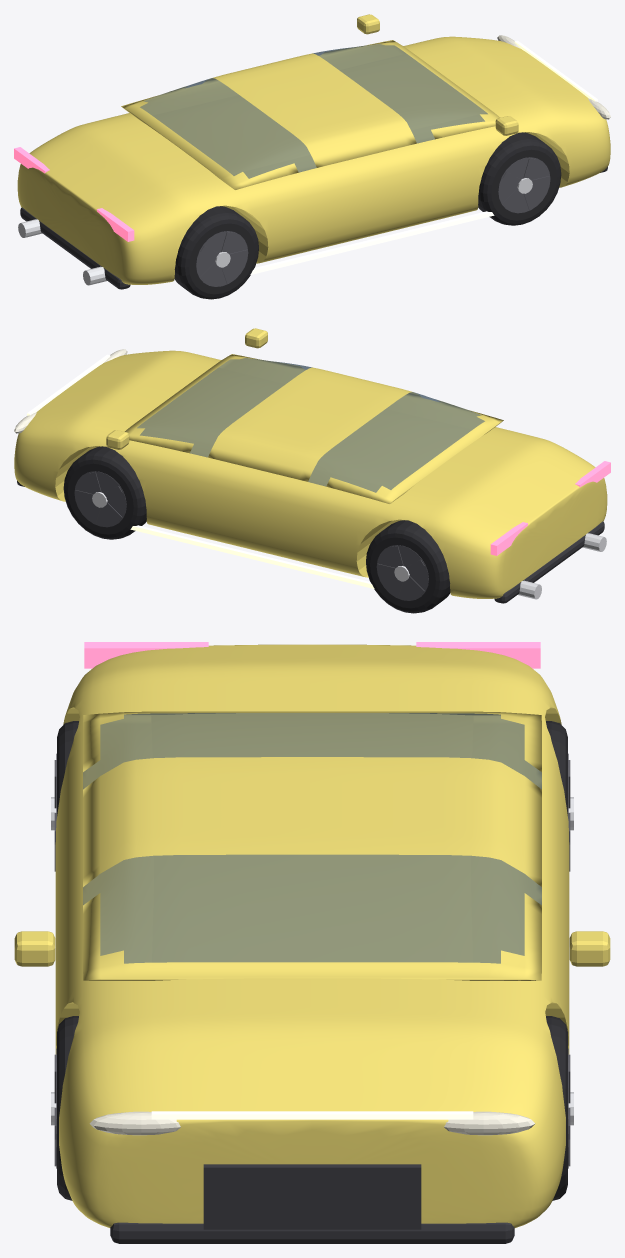
File: solar_flare.fbx
The picture shows the model from 3 angles, top to bottom: view 1: azimuth 30°, elevation 25°; view 2: azimuth 150°, elevation 25°; view 3: azimuth 270°, elevation 25°; orthographic projection. The views are drawn at different scales.
Visible parts, largest first — view 1: Body.015, Glass.015, Tire.015, Rim.015, Neon.004, Chrome.015, Trim.015, TailLight.015; view 2: Body.015, Glass.015, Tire.015, Rim.015, Neon.004, Chrome.015, Trim.015, TailLight.015; view 3: Body.015, Glass.015, Trim.015, Tire.015, HeadLight.015, TailLight.015, Neon.004, Rim.015.
Part boxes in pixels (x1,y1,x2,y2): Body.015: (17, 14, 610, 284); Glass.015: (140, 44, 487, 178); Tire.015: (174, 132, 561, 299); Rim.015: (196, 157, 550, 286); Neon.004: (250, 40, 597, 274); Chrome.015: (18, 178, 532, 285); Trim.015: (20, 166, 607, 289); TailLight.015: (14, 147, 134, 241); Body.015: (14, 328, 607, 598); Glass.015: (137, 358, 484, 492); Tire.015: (63, 446, 450, 613); Rim.015: (74, 471, 428, 600); Neon.004: (27, 354, 374, 588); Chrome.015: (92, 492, 606, 599); Trim.015: (17, 480, 604, 603); TailLight.015: (490, 461, 610, 555); Body.015: (14, 644, 610, 1227); Glass.015: (83, 713, 541, 963); Trim.015: (110, 1164, 514, 1243); Tire.015: (57, 721, 567, 1200); HeadLight.015: (89, 1111, 535, 1135); TailLight.015: (84, 642, 540, 668); Neon.004: (151, 1111, 473, 1119); Rim.015: (54, 753, 570, 1168).
Bounding box in the file's own units: 1581 × 358 × 804.
